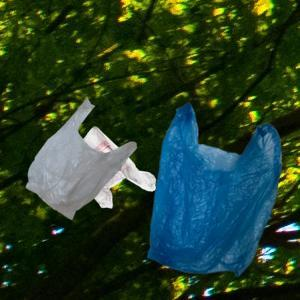plastic_bag: (147, 99, 285, 280), (18, 93, 136, 223)
